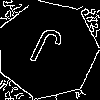J: (22, 25, 66, 78)
